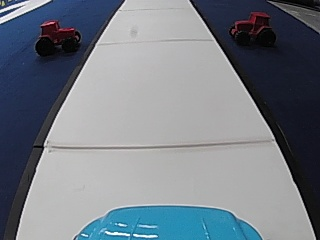tractor: (34, 17, 82, 56), (228, 9, 276, 47)
